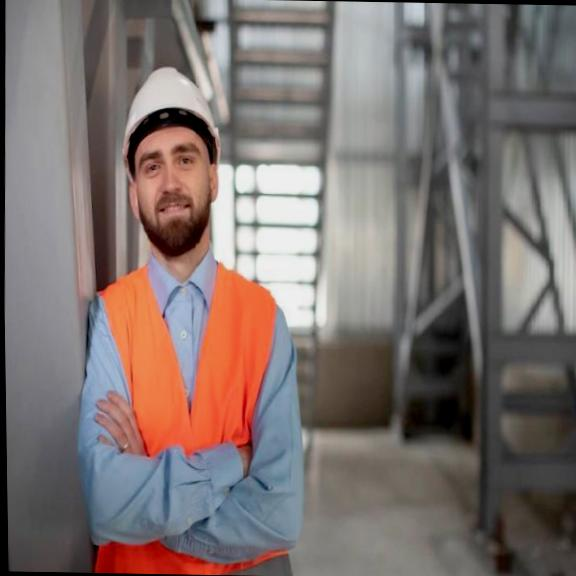safety_vest: (65, 250, 316, 576)
